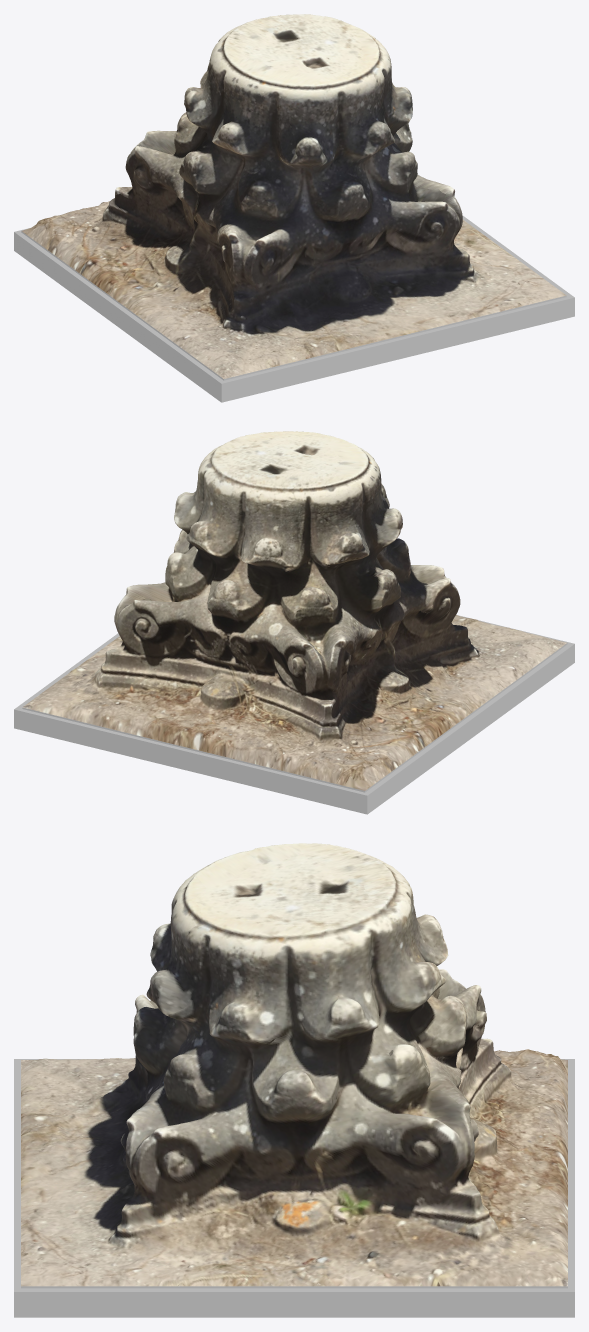
Rendered from capitel.glb.
The picture shows the model from 3 angles, top to bottom: view 1: azimuth 30°, elevation 25°; view 2: azimuth 150°, elevation 25°; view 3: azimuth 270°, elevation 25°; orthographic projection. The views are drawn at different scales.
Parts seen in each view (by area): view 1: Object_3, Object_4, Object_2; view 2: Object_4, Object_3, Object_2; view 3: Object_4, Object_3, Object_2.
Boxes of the visible parts, x1=… form: Object_3: x1=59, y1=67, x2=458, y2=378; Object_4: x1=22, y1=14, x2=566, y2=347; Object_2: x1=14, y1=215, x2=574, y2=402; Object_4: x1=22, y1=431, x2=524, y2=790; Object_3: x1=60, y1=431, x2=566, y2=762; Object_2: x1=14, y1=615, x2=574, y2=814; Object_4: x1=21, y1=843, x2=567, y2=1286; Object_3: x1=21, y1=874, x2=567, y2=1260; Object_2: x1=14, y1=1059, x2=574, y2=1317.
Bounding box in the file's own units: 35.13 × 22.6 × 35.73.
Materials: 3 (2 with a texture image).
